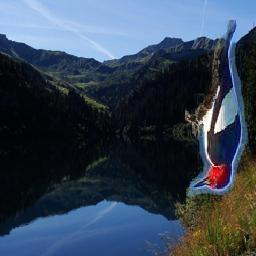Woodpecker: (186, 21, 253, 202)
